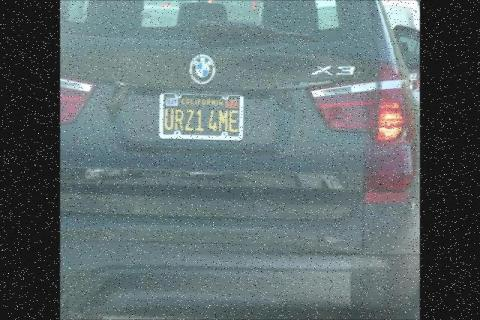LicensePlate: (160, 88, 244, 144)
